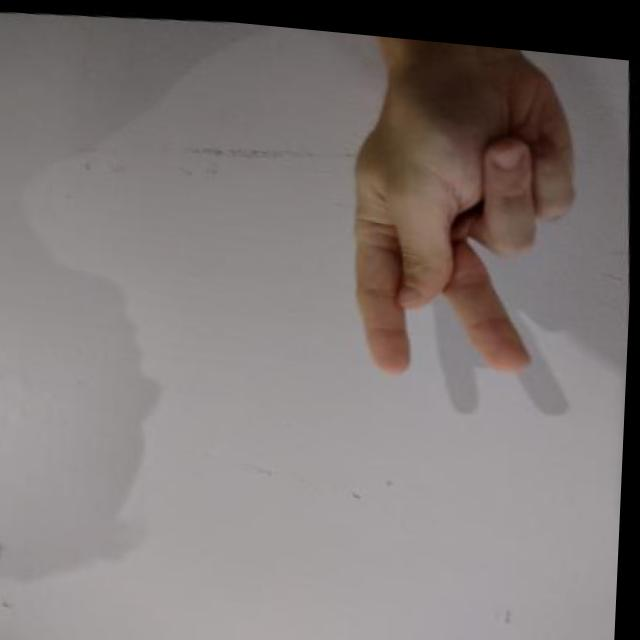K: (329, 28, 599, 391)
